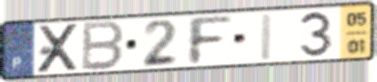2: (140, 17, 181, 68)
3: (296, 8, 335, 60)
B: (79, 19, 127, 72)
F: (184, 15, 235, 67)
I: (257, 11, 276, 63)
X: (35, 22, 82, 75)
